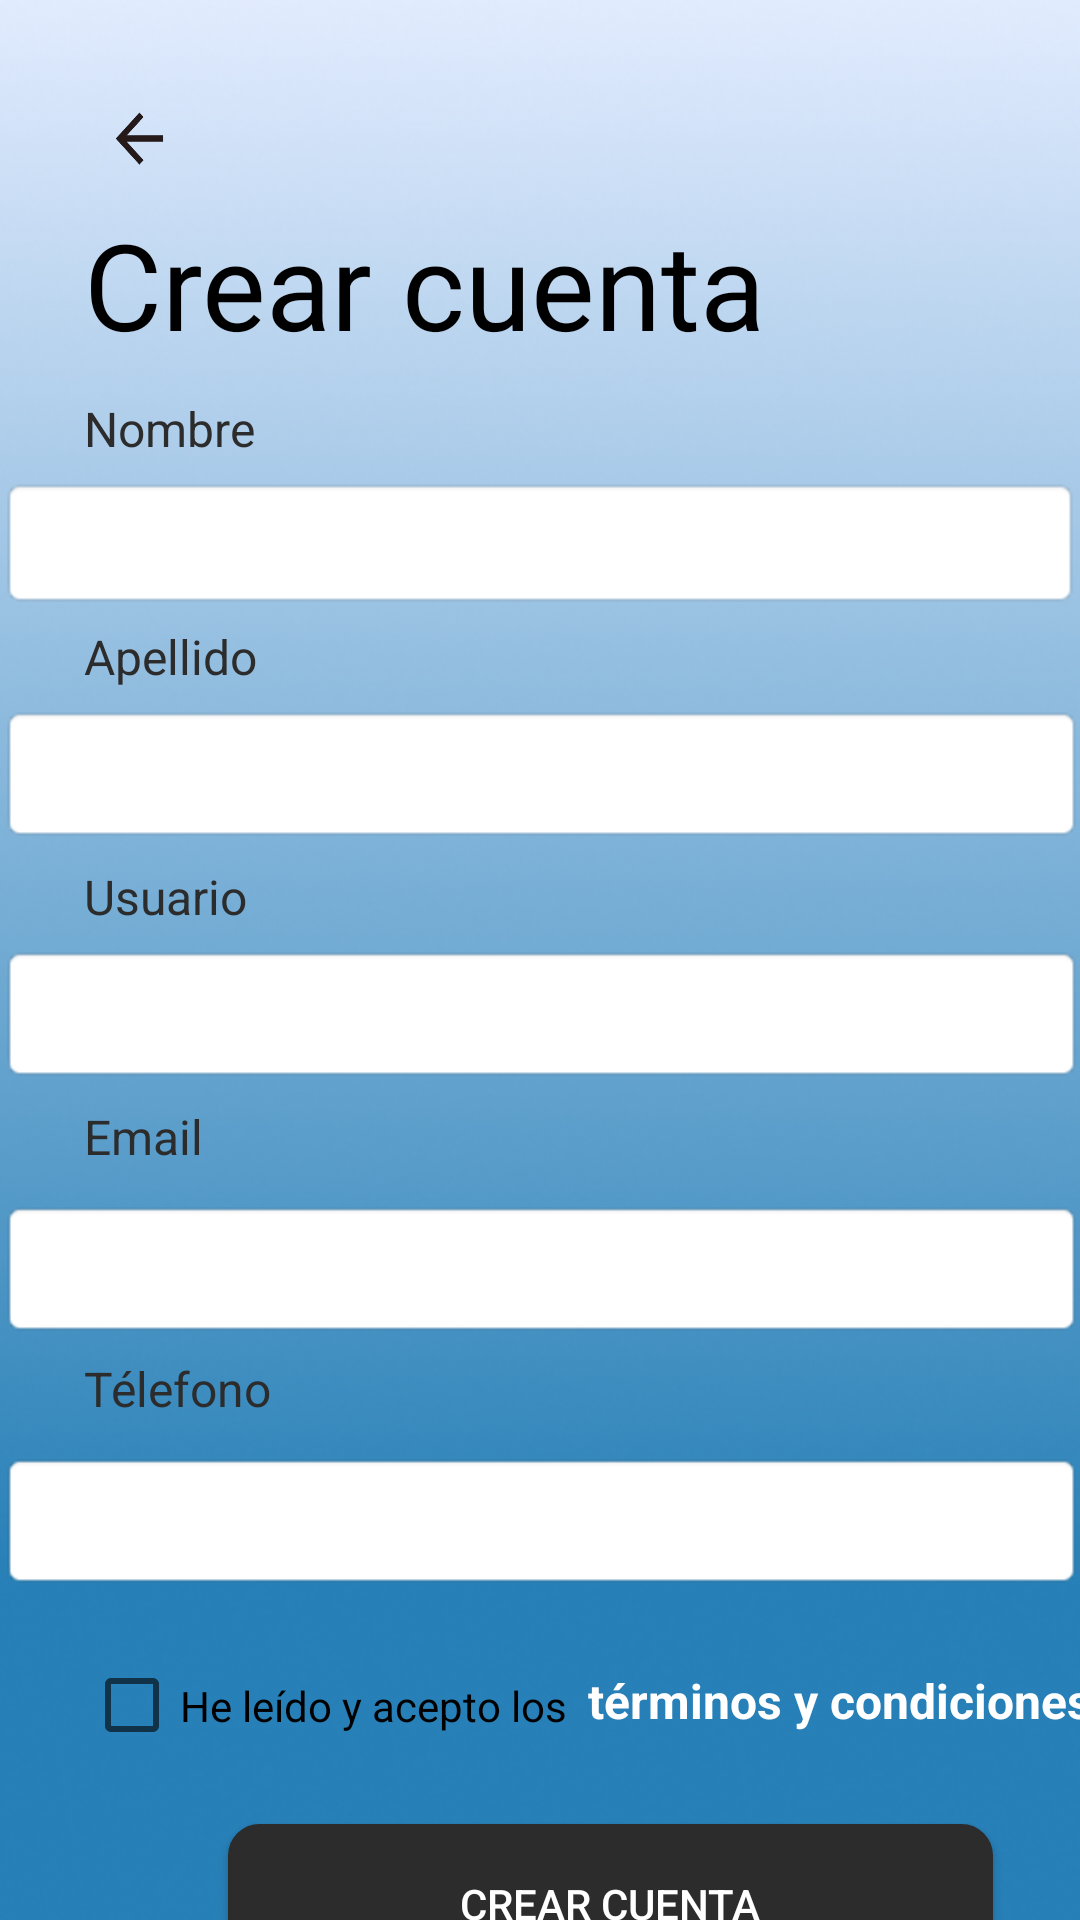

Named icons in this screenshot (1080 × 1920) and their bounding boxes, box(x1, y1, x2, y2):
flecha atras negra: box(116, 112, 163, 165)
